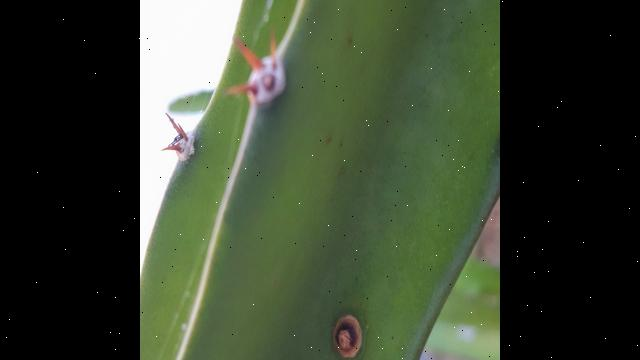stemcanker: (326, 307, 371, 360)
